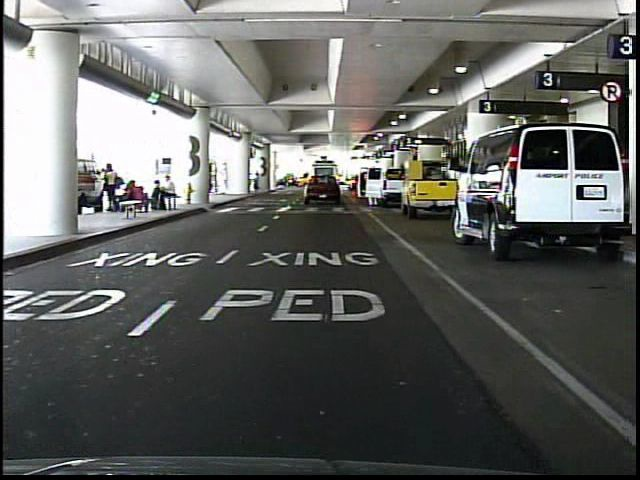person: (253, 169, 264, 193)
